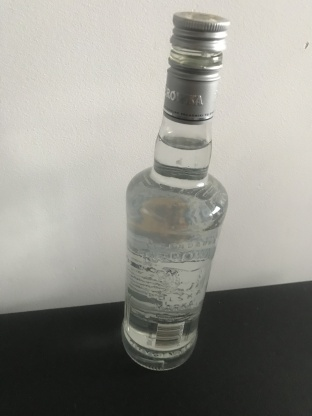nakretka: (161, 9, 231, 124), (161, 10, 231, 124)
